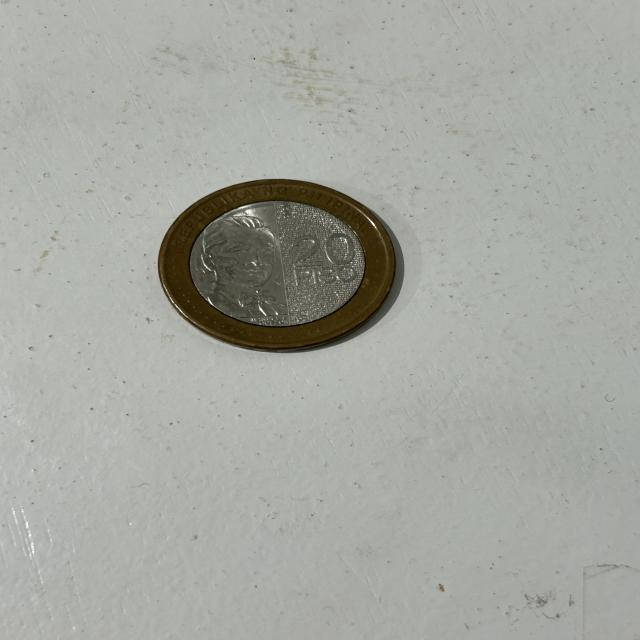20_New_Front: (292, 230, 375, 295)
